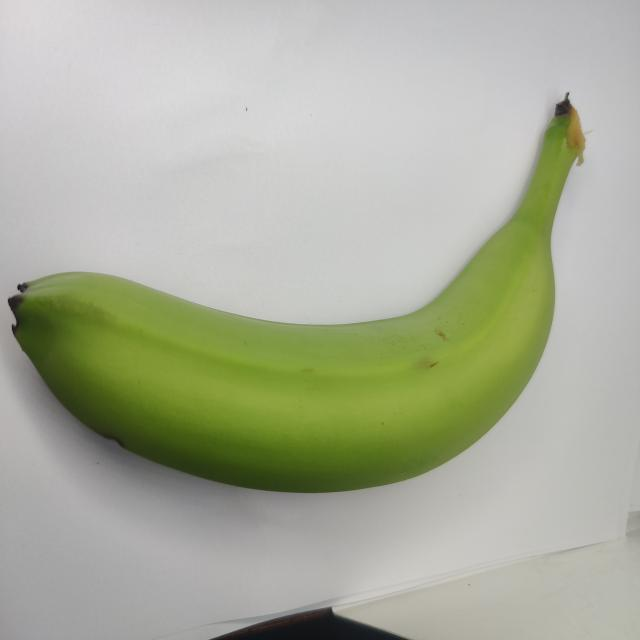raw: (4, 77, 614, 517)
